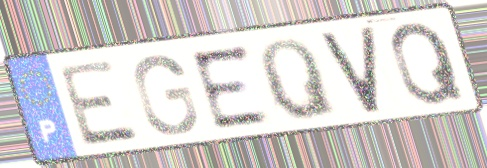E: (54, 57, 145, 149), (186, 41, 275, 133)
G: (130, 52, 200, 138)
Q: (257, 35, 341, 123), (388, 18, 470, 108)
V: (316, 22, 385, 117)
